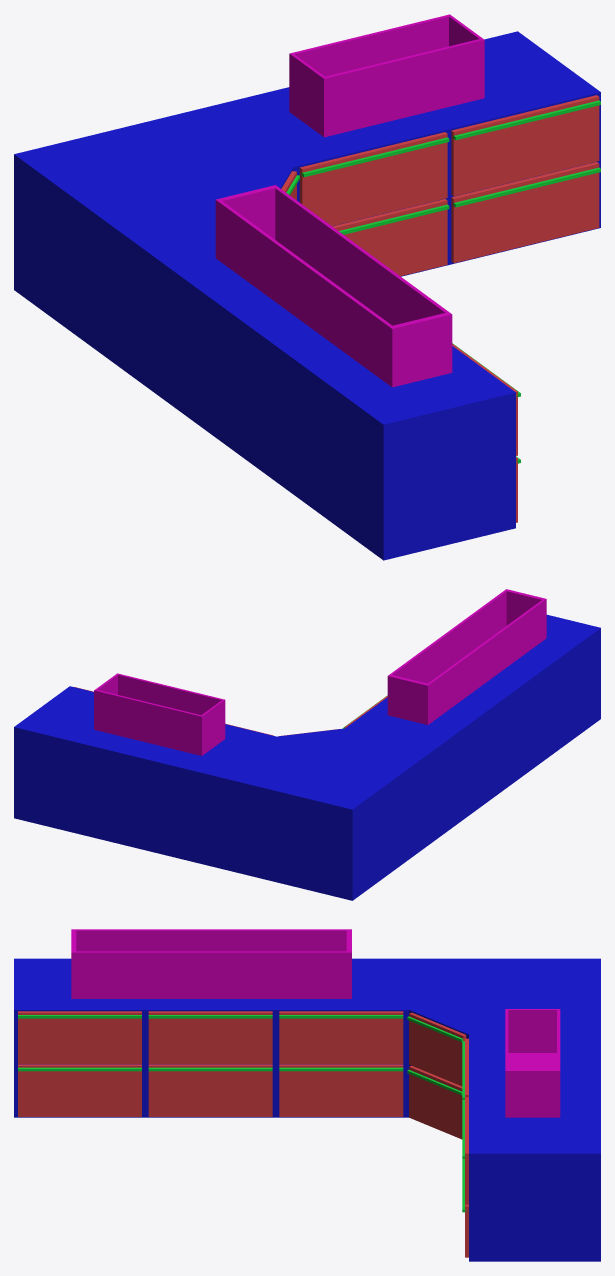
The model's file is шкафы.fbx.
3 renders of one model, top to bottom at view 1: azimuth 30°, elevation 25°; view 2: azimuth 150°, elevation 25°; view 3: azimuth 270°, elevation 25°, orthographic. The views are drawn at different scales.
Visible parts, largest first — view 1: Cube; view 2: Cube; view 3: Cube.
Part boxes in pixels (x1,y1,x2,y2): Cube: [14, 14, 600, 560]; Cube: [14, 589, 600, 900]; Cube: [14, 929, 600, 1261].
Bounding box in the file's own units: 3.32 × 1.22 × 4.22.
